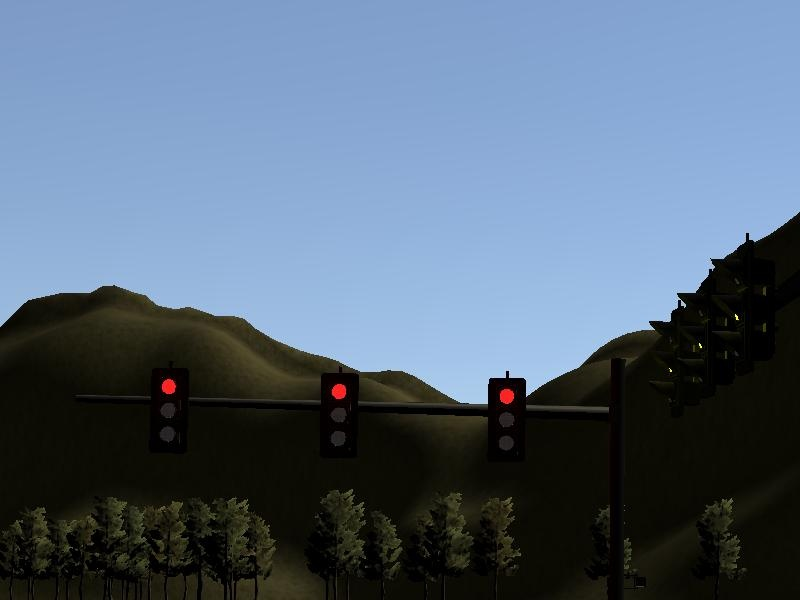RED: (148, 367, 187, 451), (318, 373, 357, 457), (487, 377, 526, 461)
